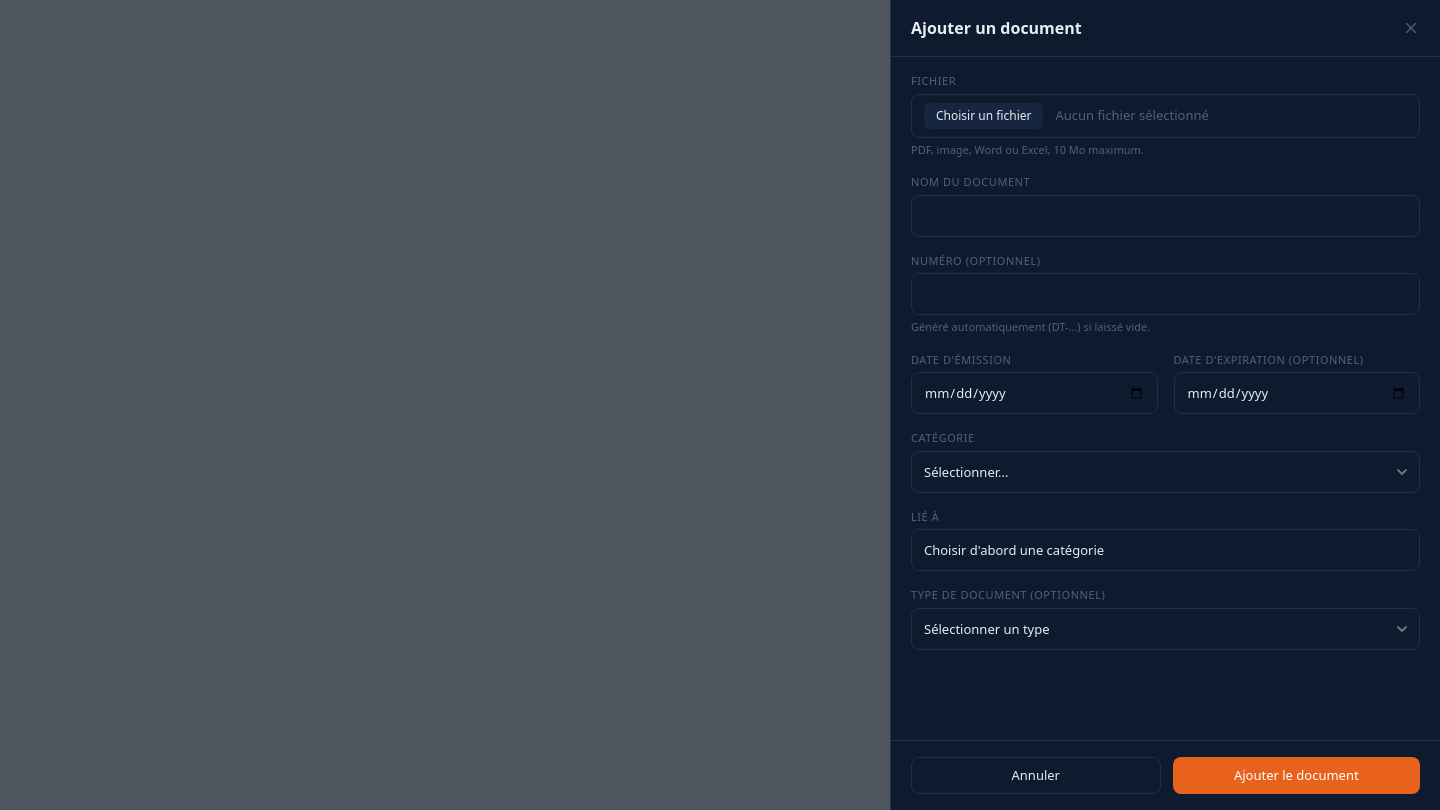
Test: NewDocumentDrawer › when open › validation › shows required errors when submitting an empty form
The image size is (1440, 810).
Click the button "Ajouter le document" at (1296, 775), box [1172, 756, 1420, 794]
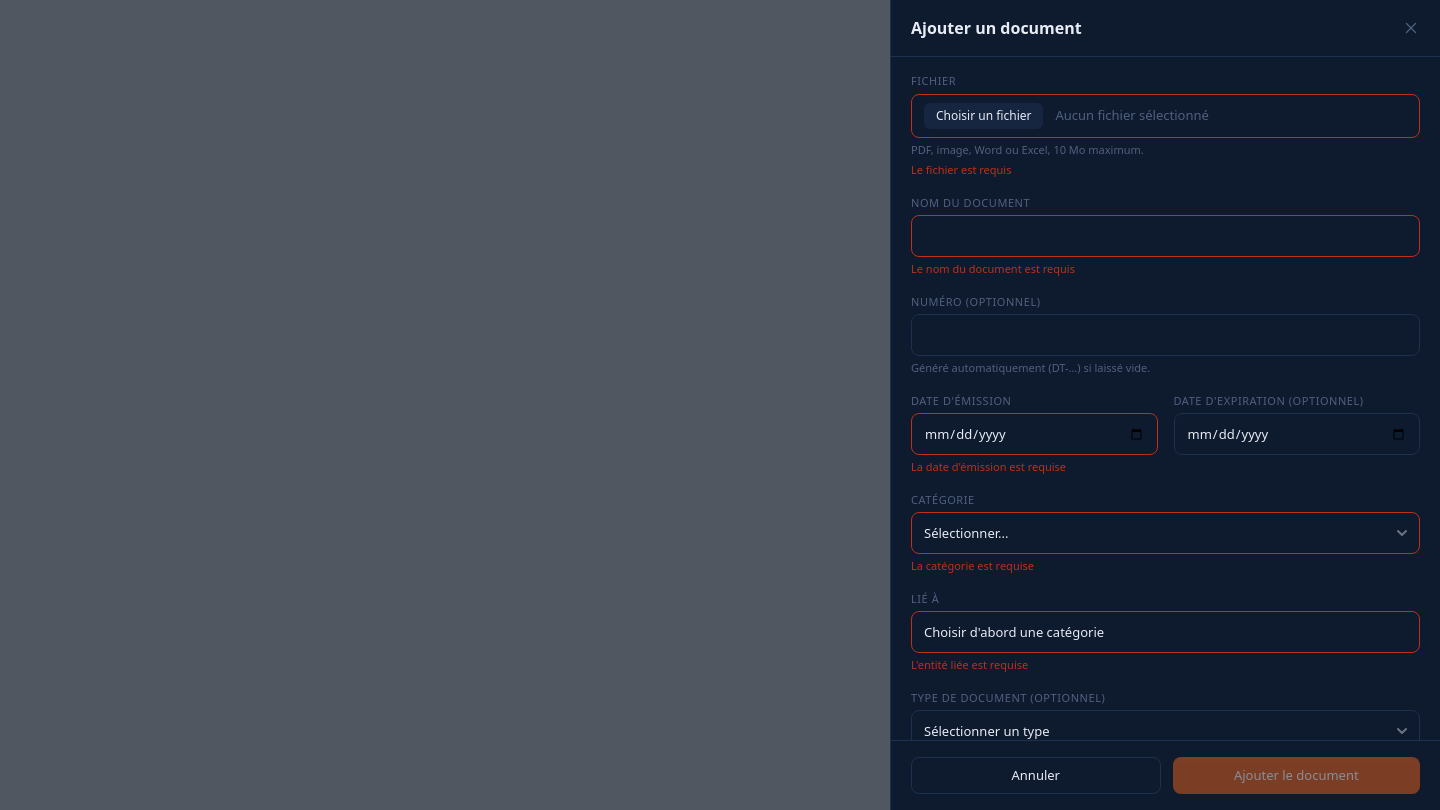
Result: the text "Le fichier est requis" is shown at [911, 162, 1012, 177]
Result: the text "Le nom du document est requis" is shown at [911, 261, 1075, 276]
Result: the text "La catégorie est requise" is shown at [911, 558, 1034, 573]
